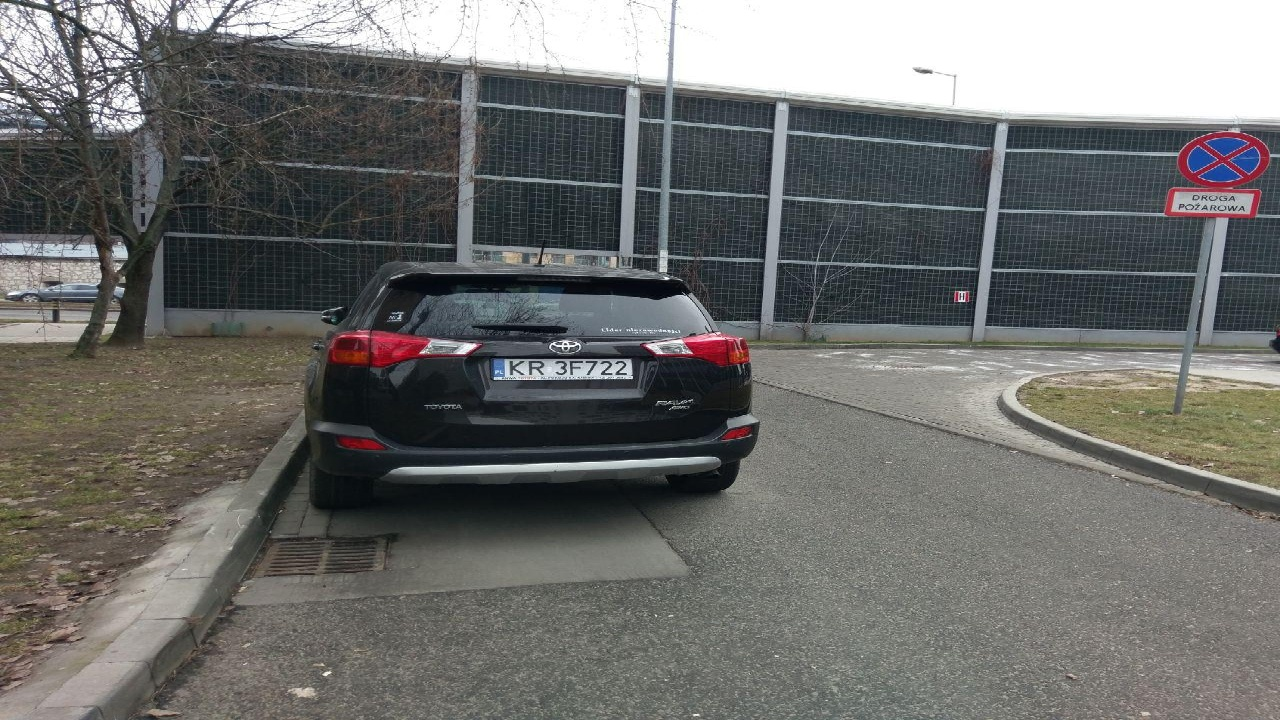B36: (1176, 131, 1270, 186)
